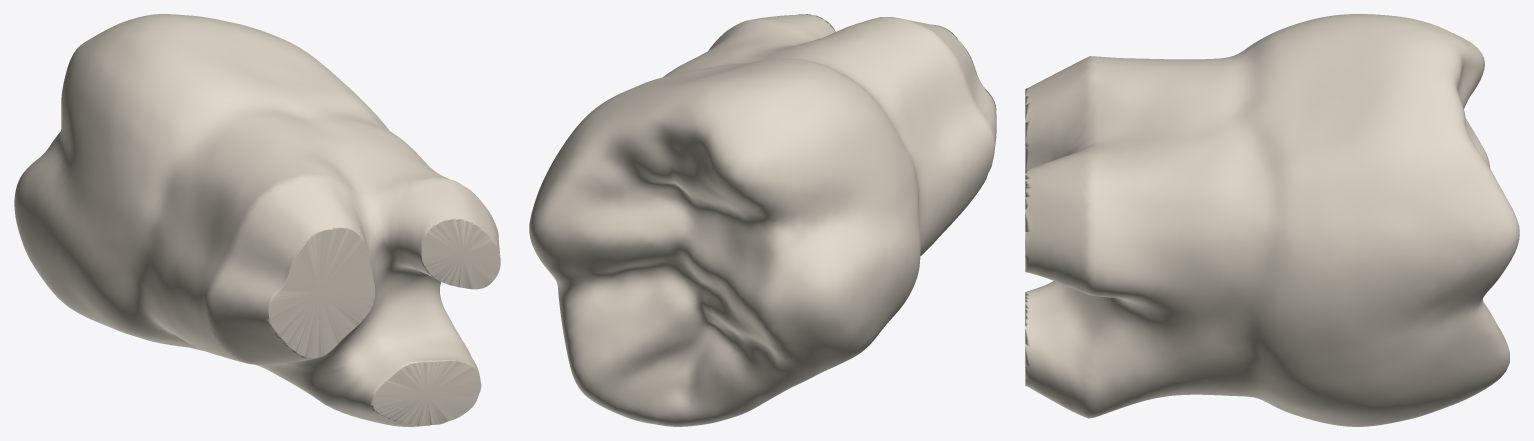
Rendered from r3-prep-onlay-26.glb.
3 views of the same model, side by side, from view 1: azimuth 30°, elevation 25°; view 2: azimuth 150°, elevation 25°; view 3: azimuth 270°, elevation 25° (orthographic). The views are drawn at different scales.
Bounding box in the file's own units: 9.54 × 9.46 × 12.26.
